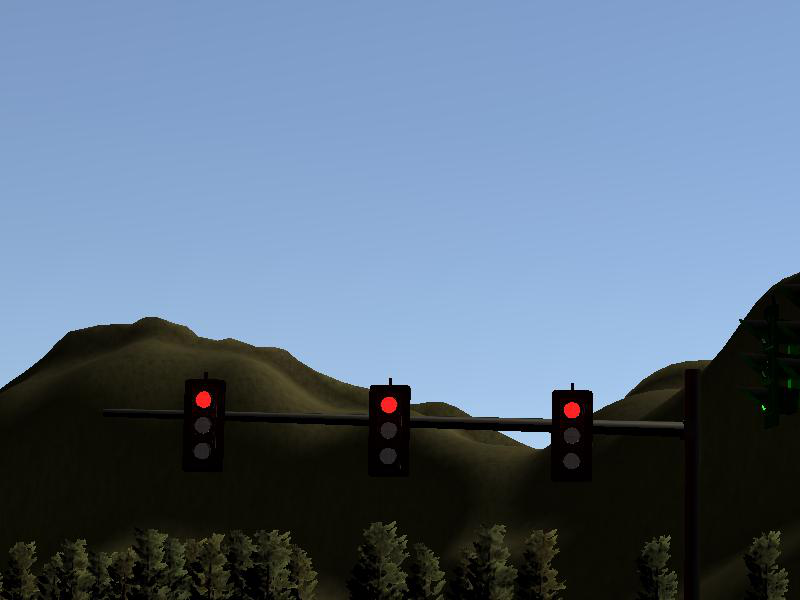red: (185, 379, 227, 472), (552, 390, 593, 482), (369, 385, 409, 475)
